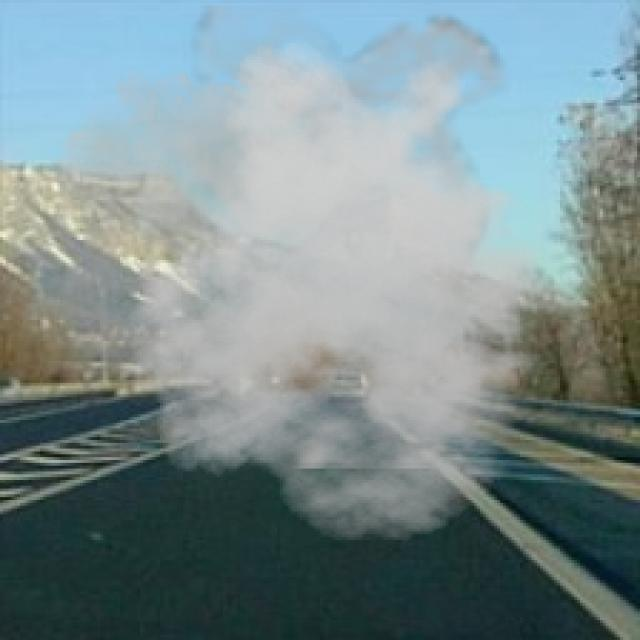Smoke: (57, 6, 597, 543)
